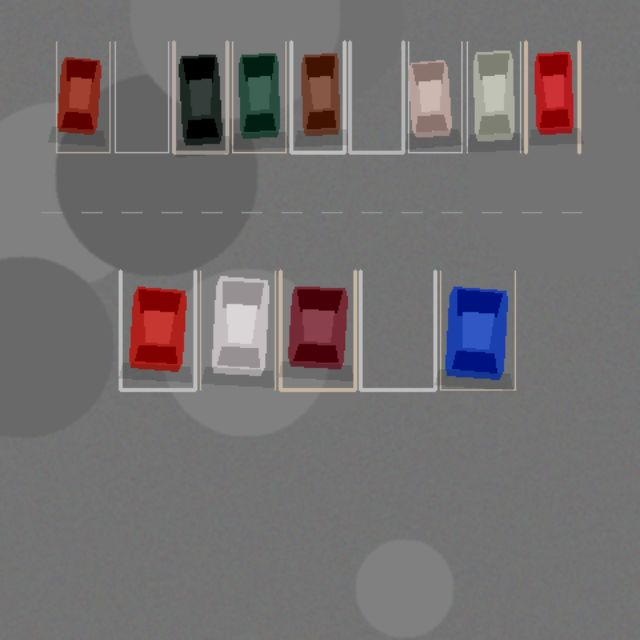space-empty: (360, 271, 435, 389), (349, 41, 403, 152), (115, 41, 168, 152)
space-occupied: (120, 271, 195, 389), (200, 271, 275, 389), (280, 271, 355, 389), (440, 271, 515, 389), (173, 41, 227, 152), (525, 41, 579, 152), (56, 41, 109, 152), (232, 41, 285, 152), (291, 41, 344, 152), (408, 41, 461, 152), (467, 41, 520, 152)
